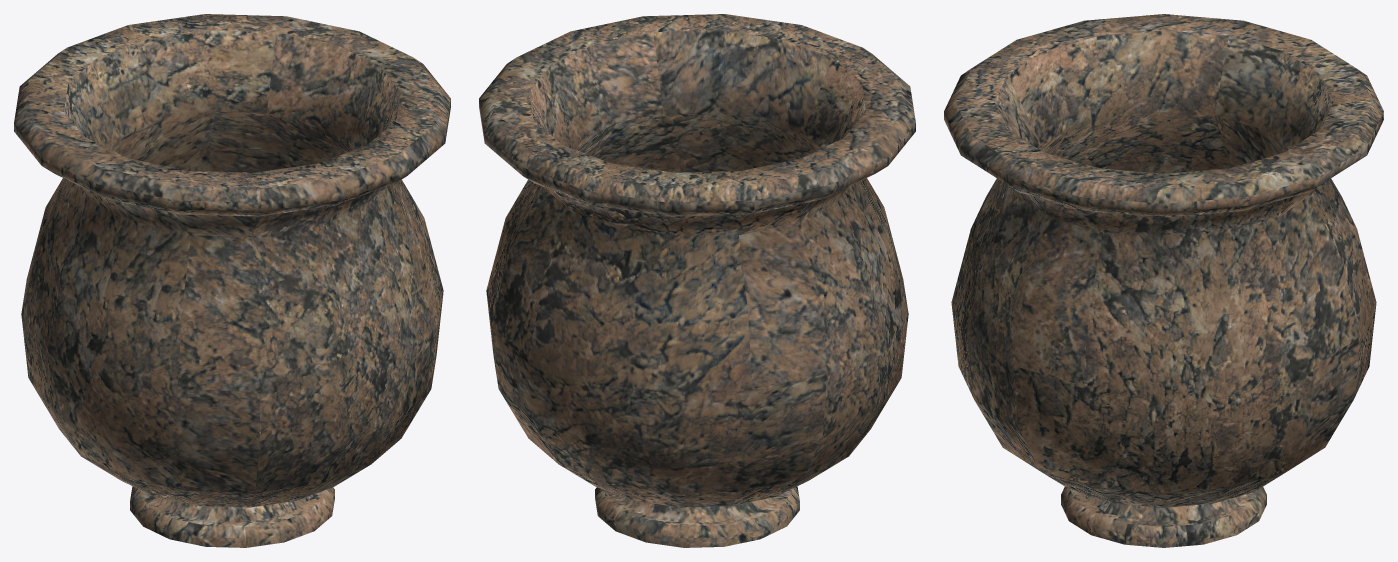
Rendered from Vessel04.fbx.
3 renders of one model, left to right at view 1: azimuth 30°, elevation 25°; view 2: azimuth 150°, elevation 25°; view 3: azimuth 270°, elevation 25°, orthographic.
Visible parts, largest first — view 1: Vessel04; view 2: Vessel04; view 3: Vessel04.
Part boxes in pixels (x1=…): Vessel04: x1=14, y1=14, x2=450, y2=547; Vessel04: x1=479, y1=14, x2=915, y2=547; Vessel04: x1=944, y1=14, x2=1383, y2=547.
Bounding box in the file's own units: 23.15 × 23.38 × 23.15.
